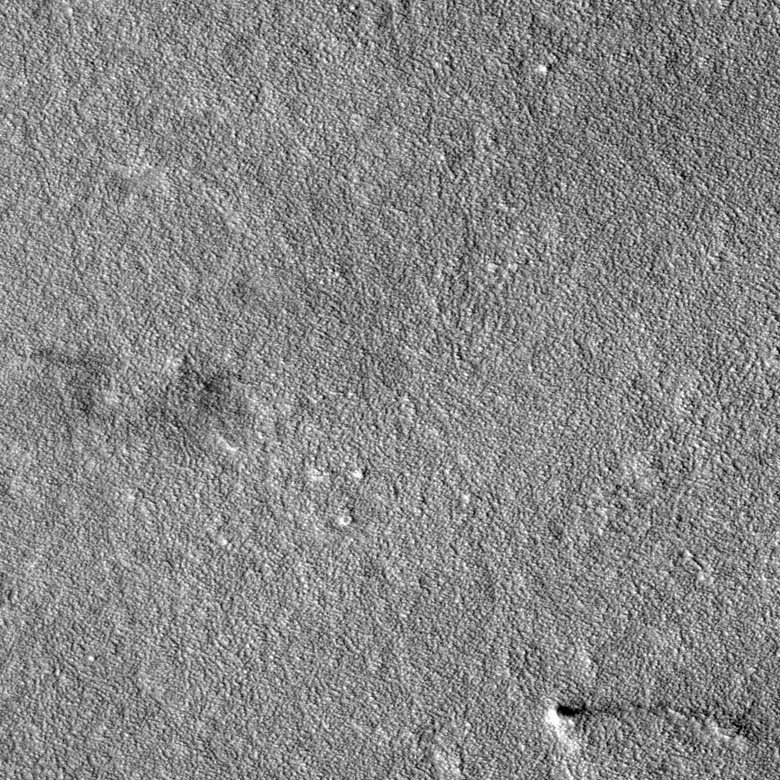dust_devil: (544, 700, 593, 728)
